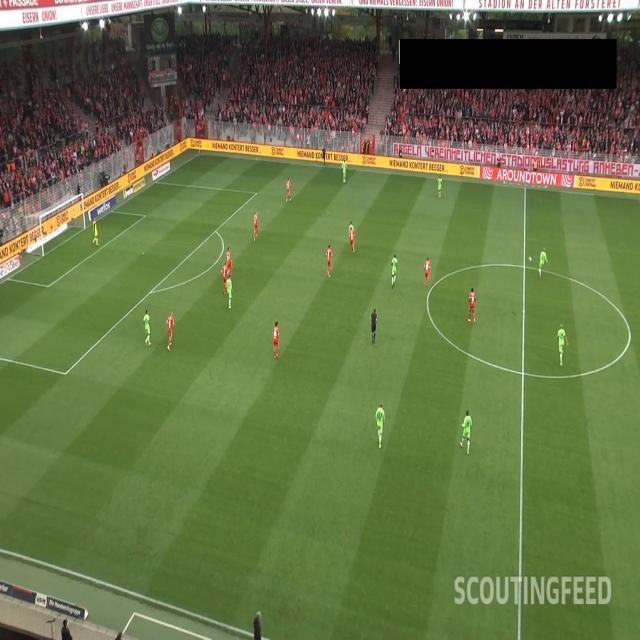ball: (528, 255, 532, 262)
